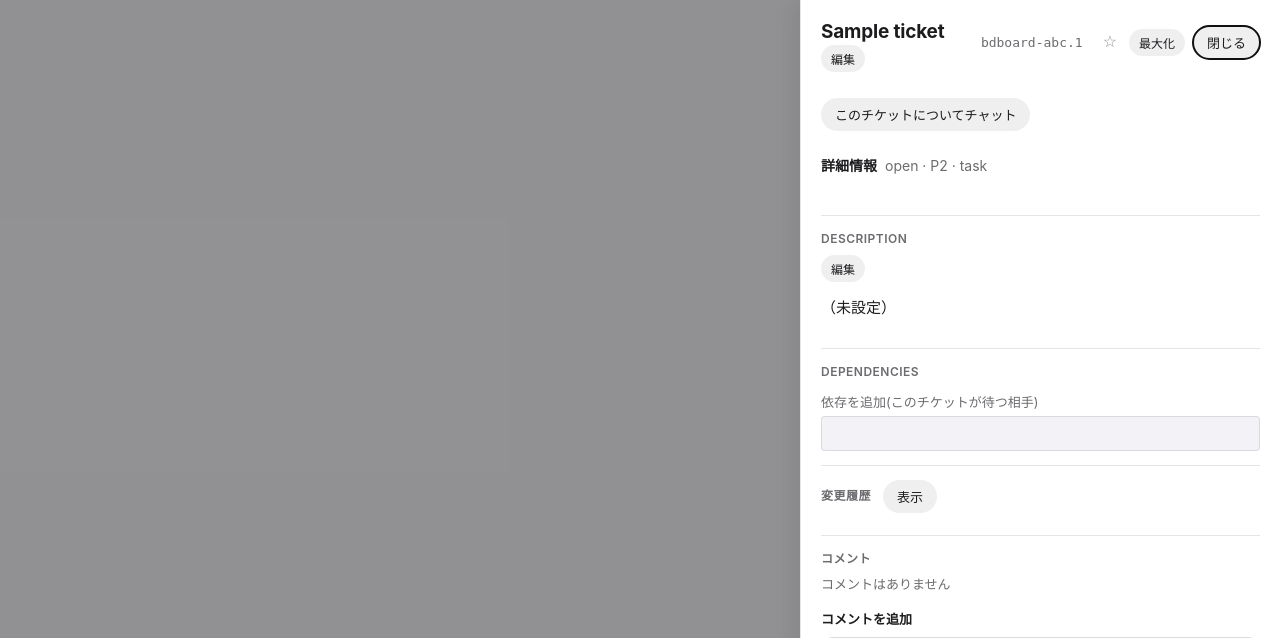
変更履歴タイムライン › loads timeline when expanded and shows enriched status change
This screenshot has width=1280, height=638.
Click the button "表示": click(910, 496) [883,480,937,513]
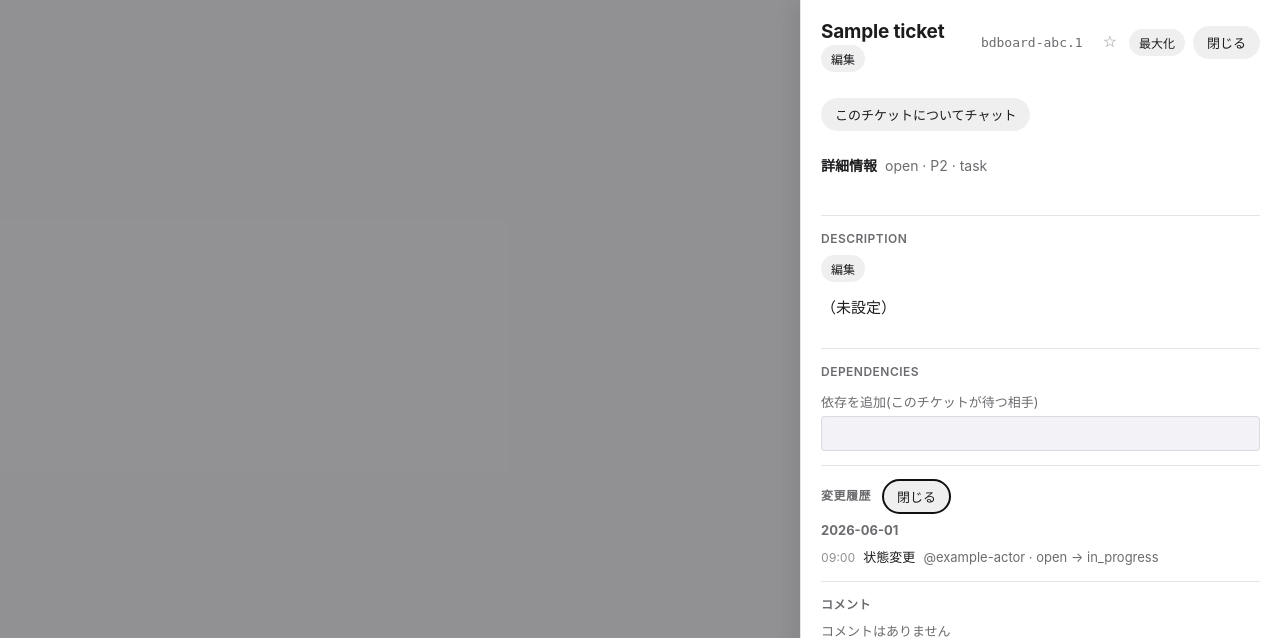
expect the text "状態変更" is shown: met, box [863,548,915,567]
expect the text "@example-actor · open → in_progress" is shown: met, box [923,548,1159,567]
